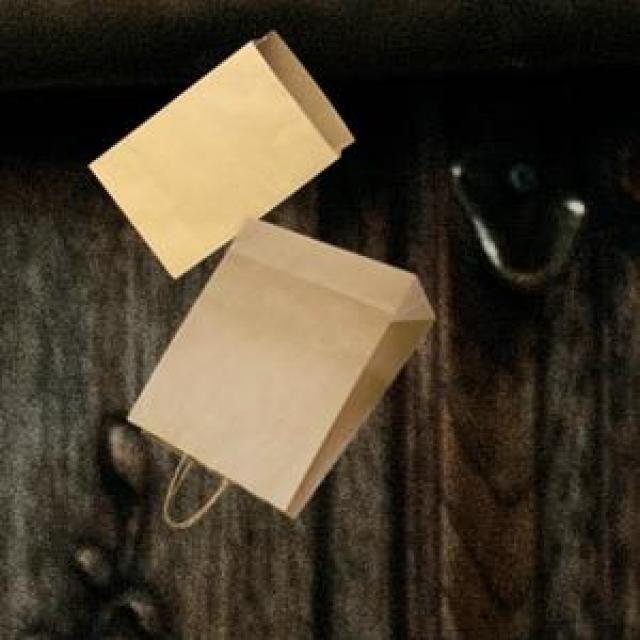paper: (124, 213, 431, 523), (85, 28, 350, 273)
